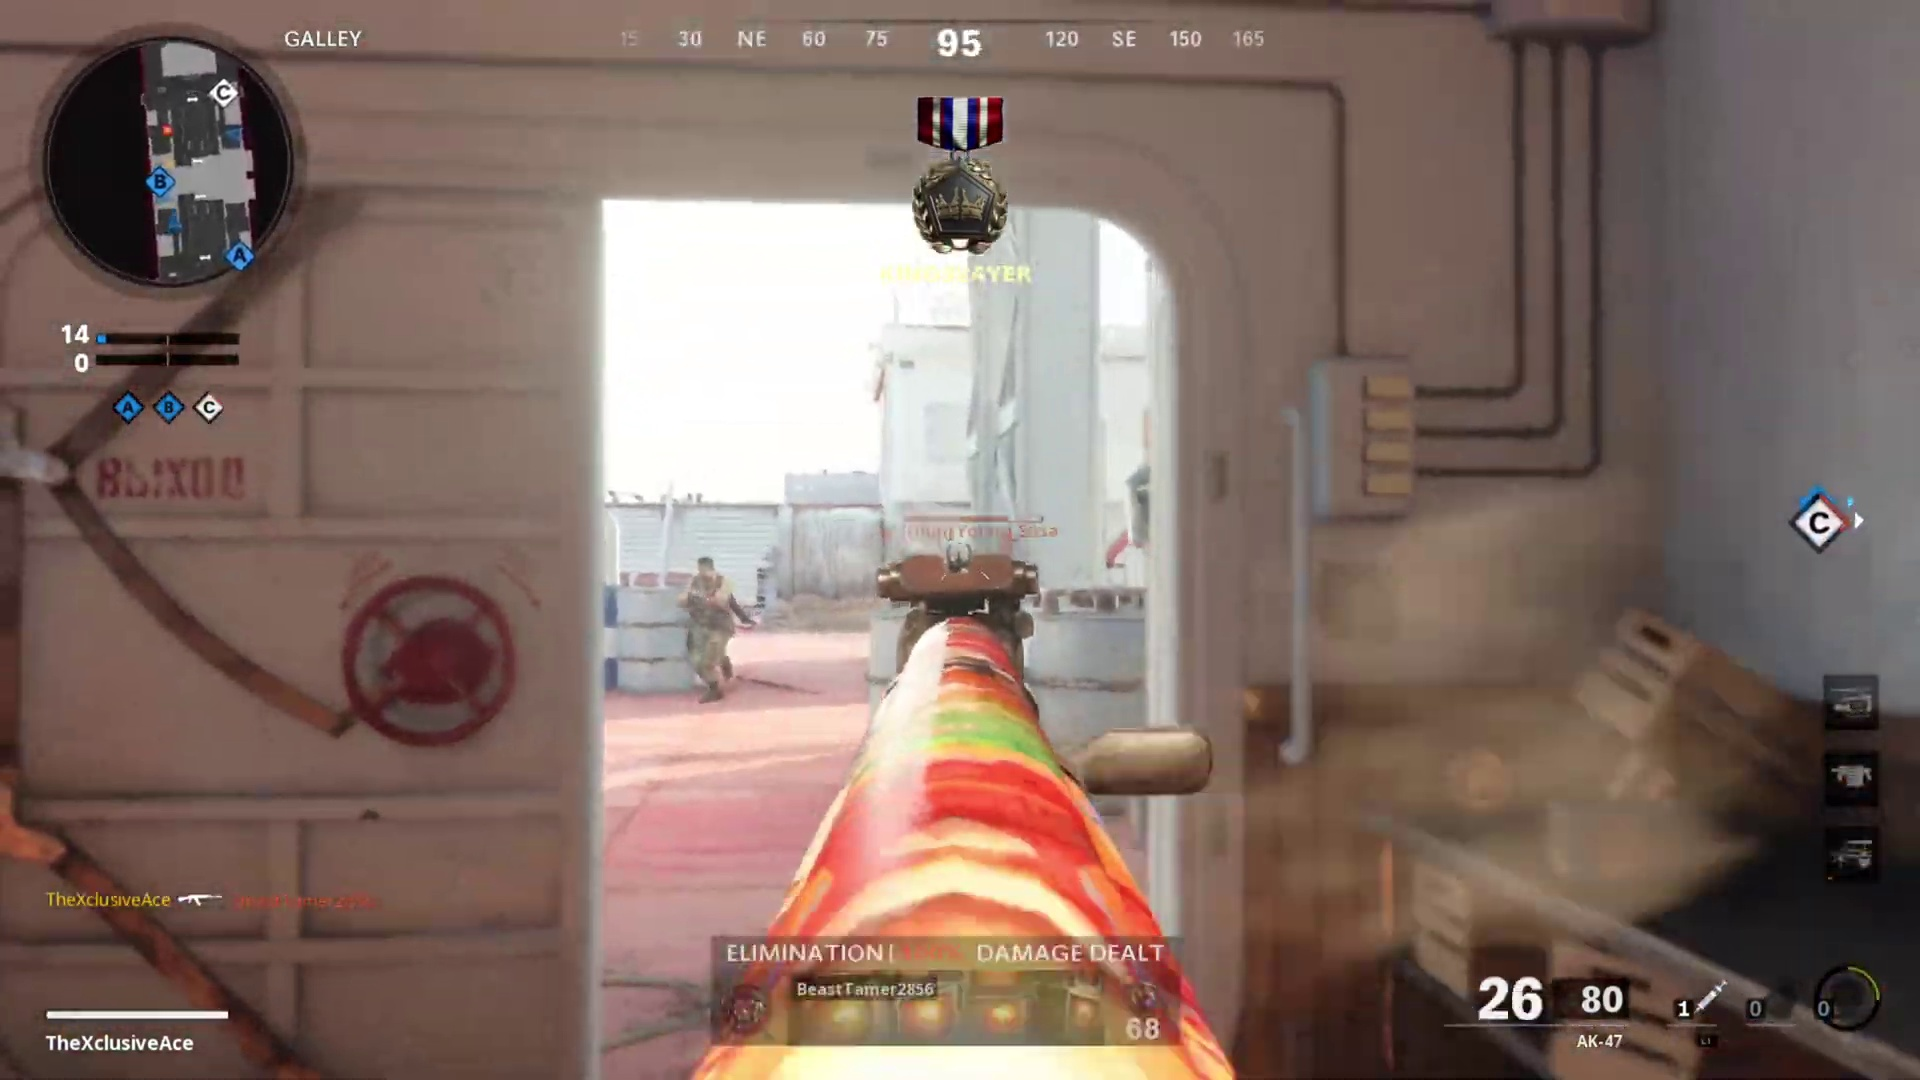head: (688, 553, 725, 594)
person: (672, 552, 754, 701)
